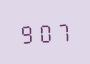nine: (18, 21, 34, 44)
seven: (53, 19, 69, 42)
zero: (36, 20, 52, 43)
